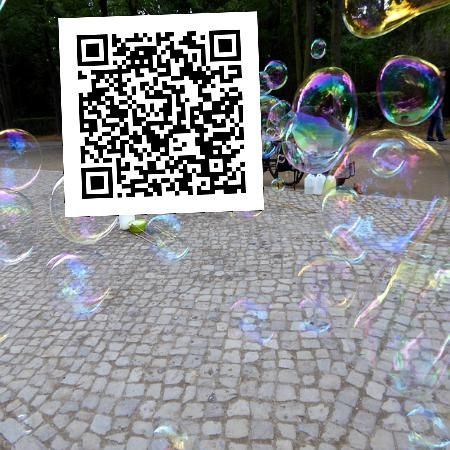qr_code: (58, 11, 263, 216)
